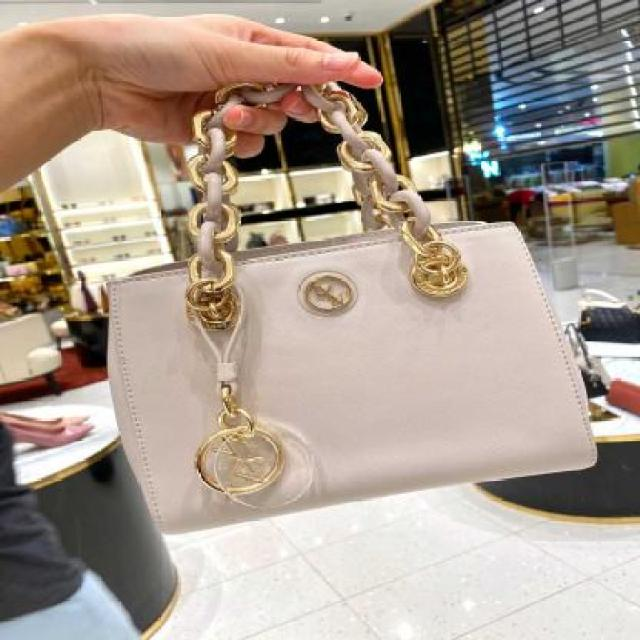Bag: (76, 33, 630, 544)
